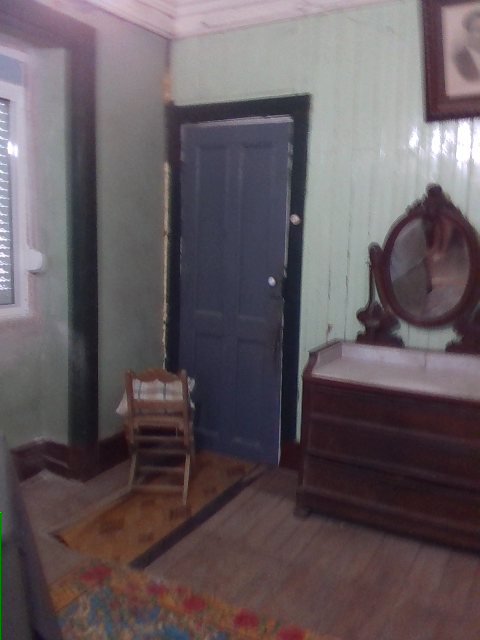closed: (167, 92, 309, 473)
